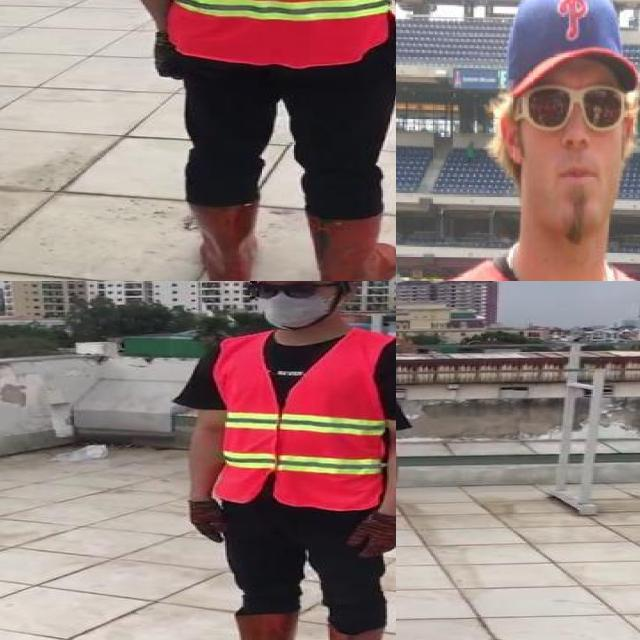boots: (306, 210, 396, 281), (185, 203, 260, 281), (203, 613, 301, 640)
face_mask: (247, 281, 332, 327)
face_nomask: (524, 79, 620, 196)
glasses: (526, 74, 638, 129), (241, 281, 328, 302)
hand_glove: (344, 513, 396, 557), (186, 498, 227, 545)
head_nohelmet: (500, 0, 640, 93)
person: (100, 0, 396, 281), (179, 281, 396, 640), (396, 0, 640, 281)
vest: (214, 330, 388, 511), (132, 0, 396, 66)
